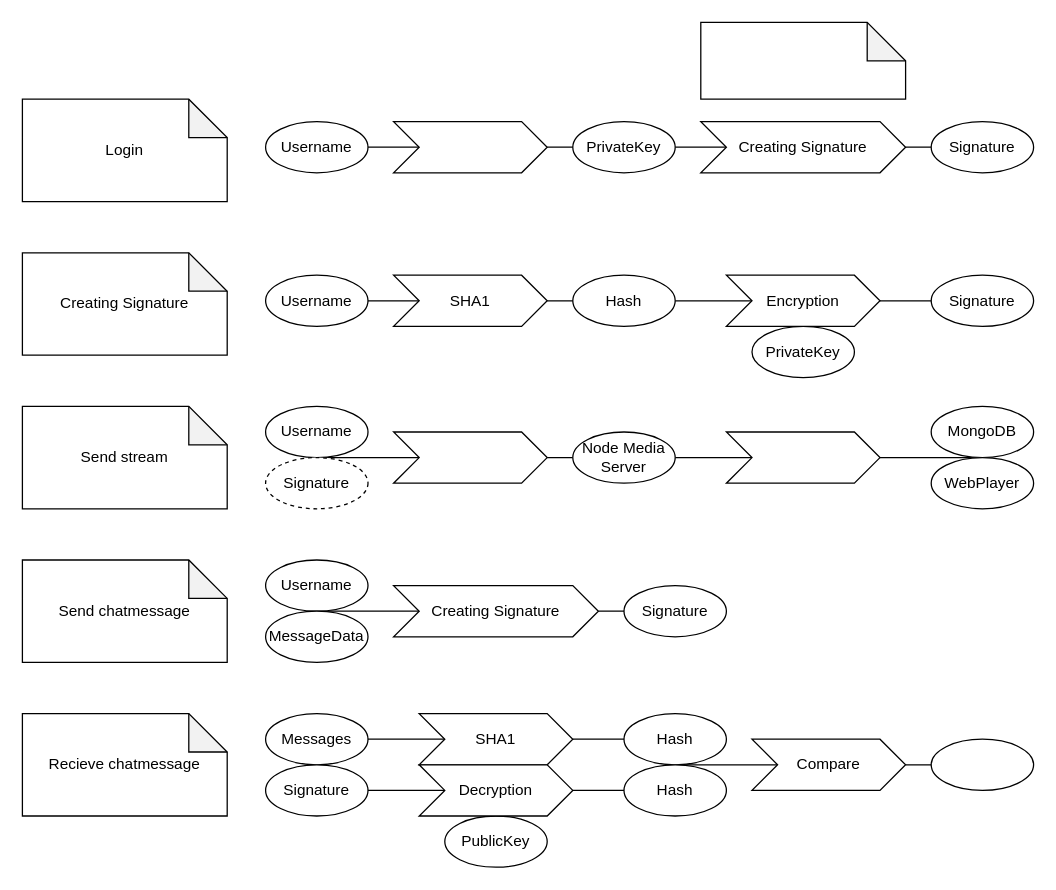
This 1056x890 diagram has some shape labels left out. Here are the shapes that lost their labels. From the top down, the centre of each, then its label:
At [803,60]: "Serverside UUID added to prevent replay attacks".
At [469,146]: "Lookup Key".
At [469,457]: "RTMP".
At [802,457]: "HLS".
At [982,764]: "Validated Messages".
